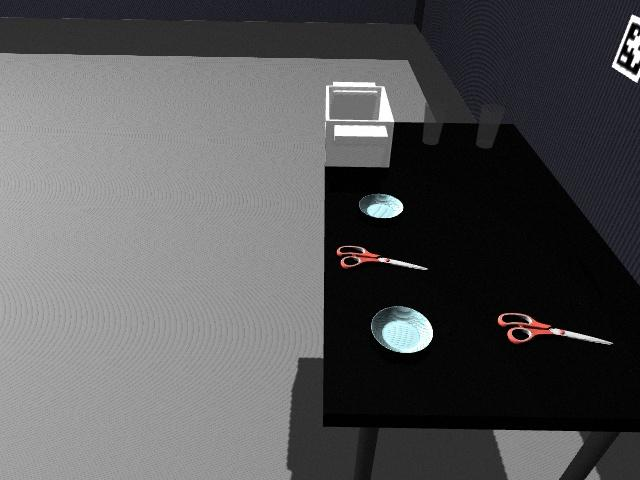cup: (475, 104, 504, 150), (421, 97, 444, 146)
plate: (369, 306, 436, 354), (358, 193, 405, 220)
scissors: (498, 310, 616, 347), (337, 244, 428, 271)
